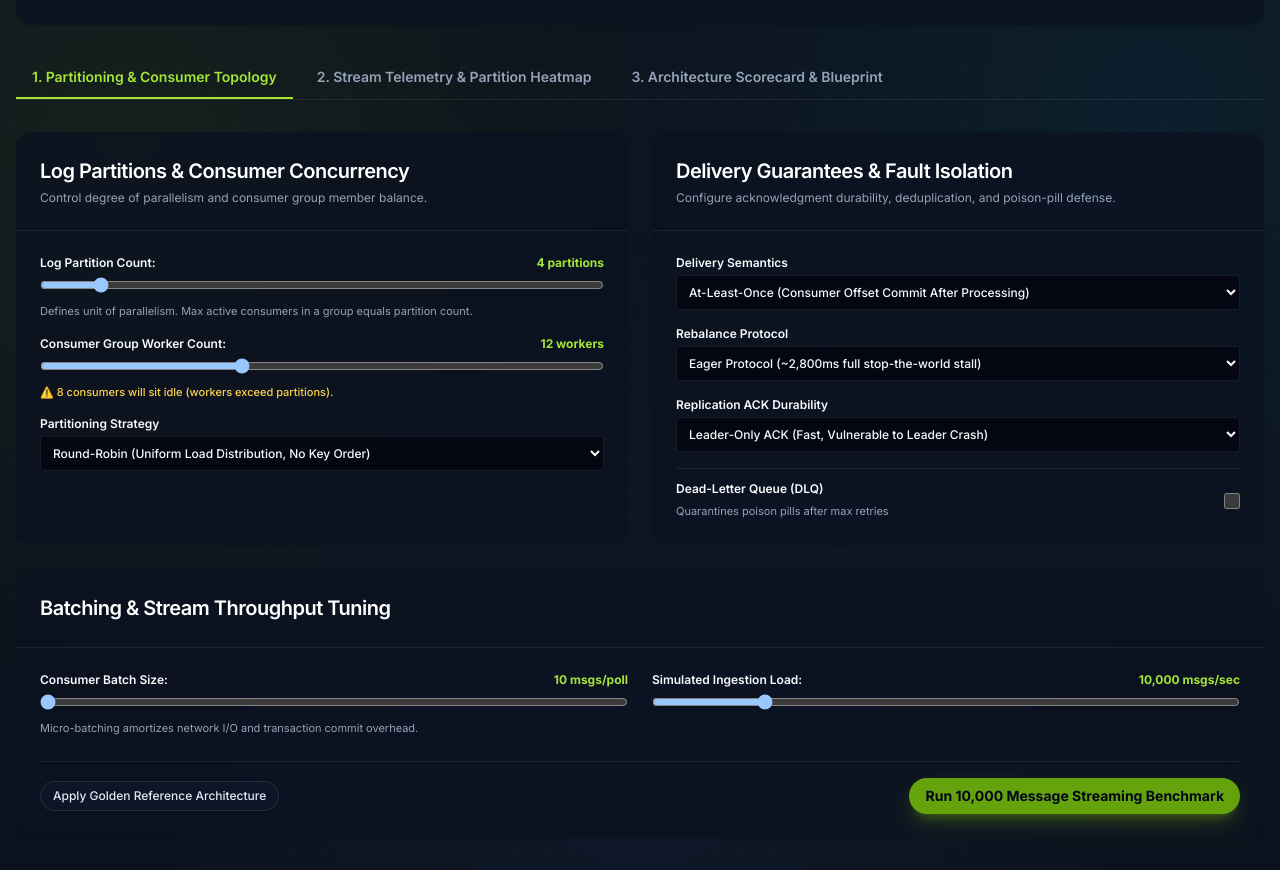
it: StreamLabPage › runs streaming benchmark simulation and navigates to telemetry tab
(page scrolled)
Click the button "Run 10,000 Message Streaming Benchmark". click: (1075, 796)
box: [910,778,1240,814]
(page scrolled)
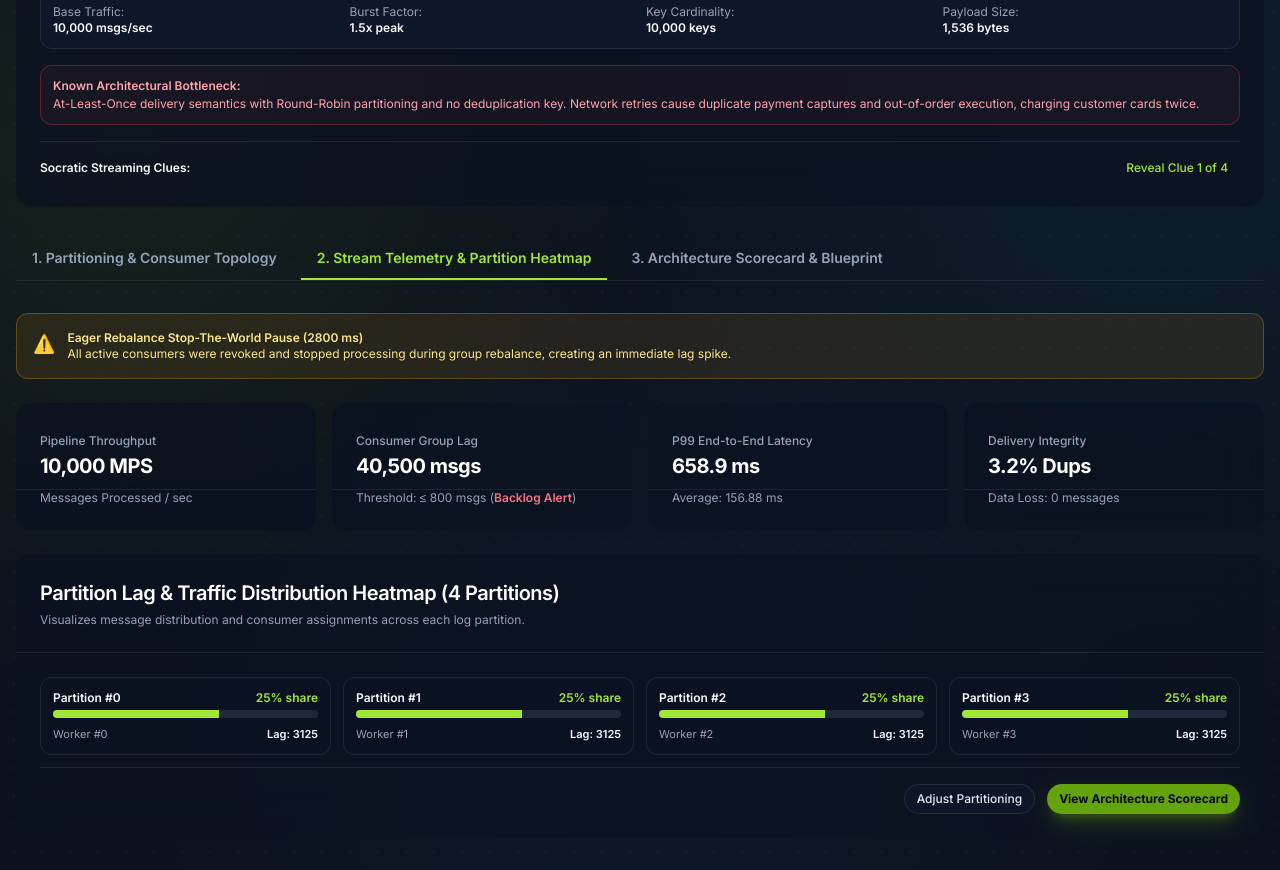
Check: the text "Pipeline Throughput" is shown, box [40,433,156,448]
Check: the text "Consumer Group Lag" is shown, box [356,433,478,448]
Check: the heading "Partition Lag & Traffic Distribution Heatmap (4 Partitions)" is shown, box [40,581,560,605]
